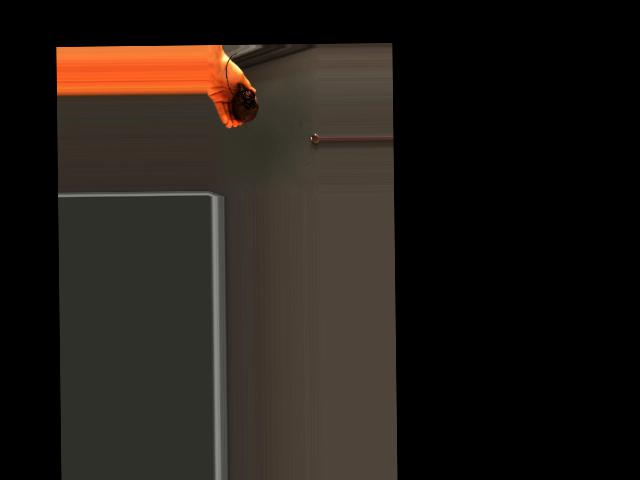beet: (225, 53, 258, 131)
